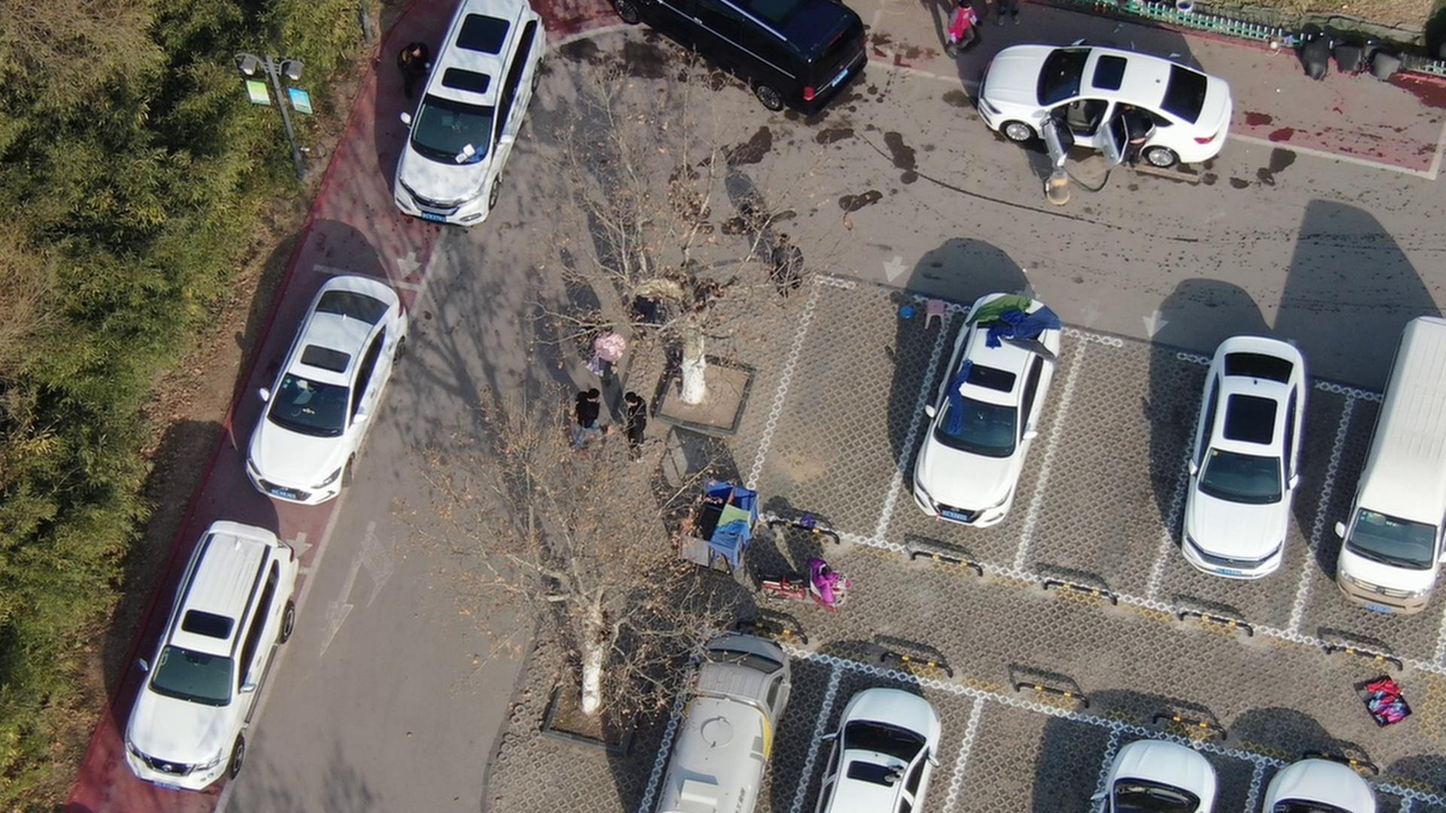human: (774, 224, 814, 306), (614, 396, 648, 465), (581, 321, 625, 374), (1121, 100, 1154, 169), (560, 382, 590, 452), (409, 38, 443, 99)
